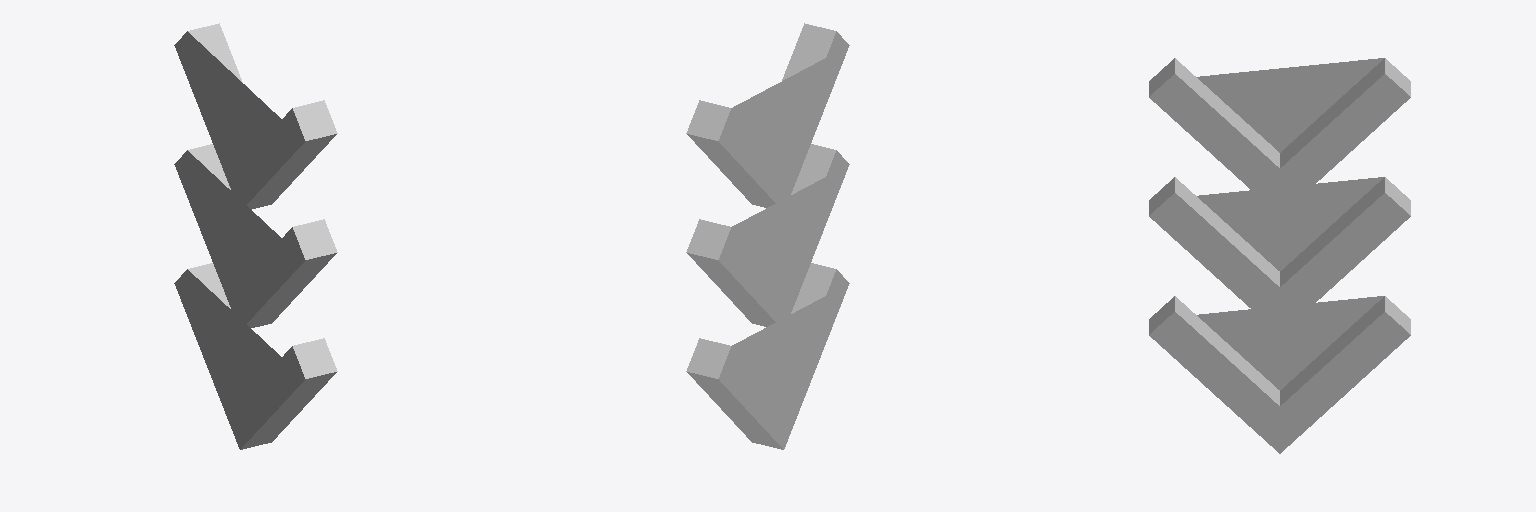
The model's file is Item_SpeedDown.obj.
The picture shows the model from 3 angles: view 1: azimuth 30°, elevation 25°; view 2: azimuth 150°, elevation 25°; view 3: azimuth 270°, elevation 25°; orthographic projection.
Visible parts, largest first — view 1: pCube10; view 2: pCube10; view 3: pCube10.
Part boxes in pixels (left/top/right/bottom): pCube10: left=174, top=23, right=337, bottom=449; pCube10: left=686, top=23, right=849, bottom=449; pCube10: left=1149, top=58, right=1410, bottom=453.
Bounding box in the file's own units: 0.2719 × 3.08 × 1.92.